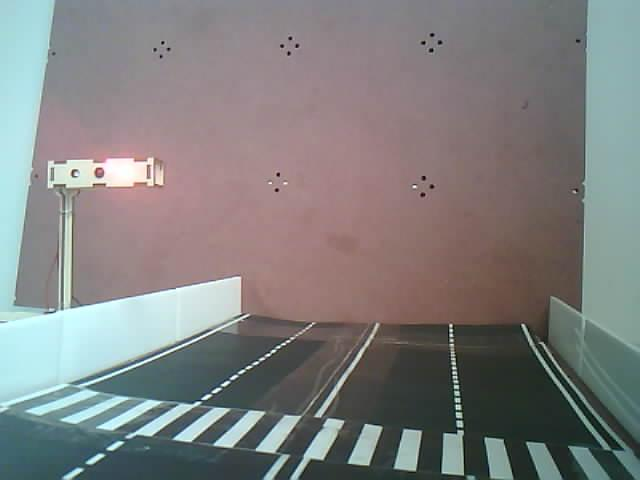crosswalk: (4, 379, 634, 479)
red: (35, 147, 168, 290)
